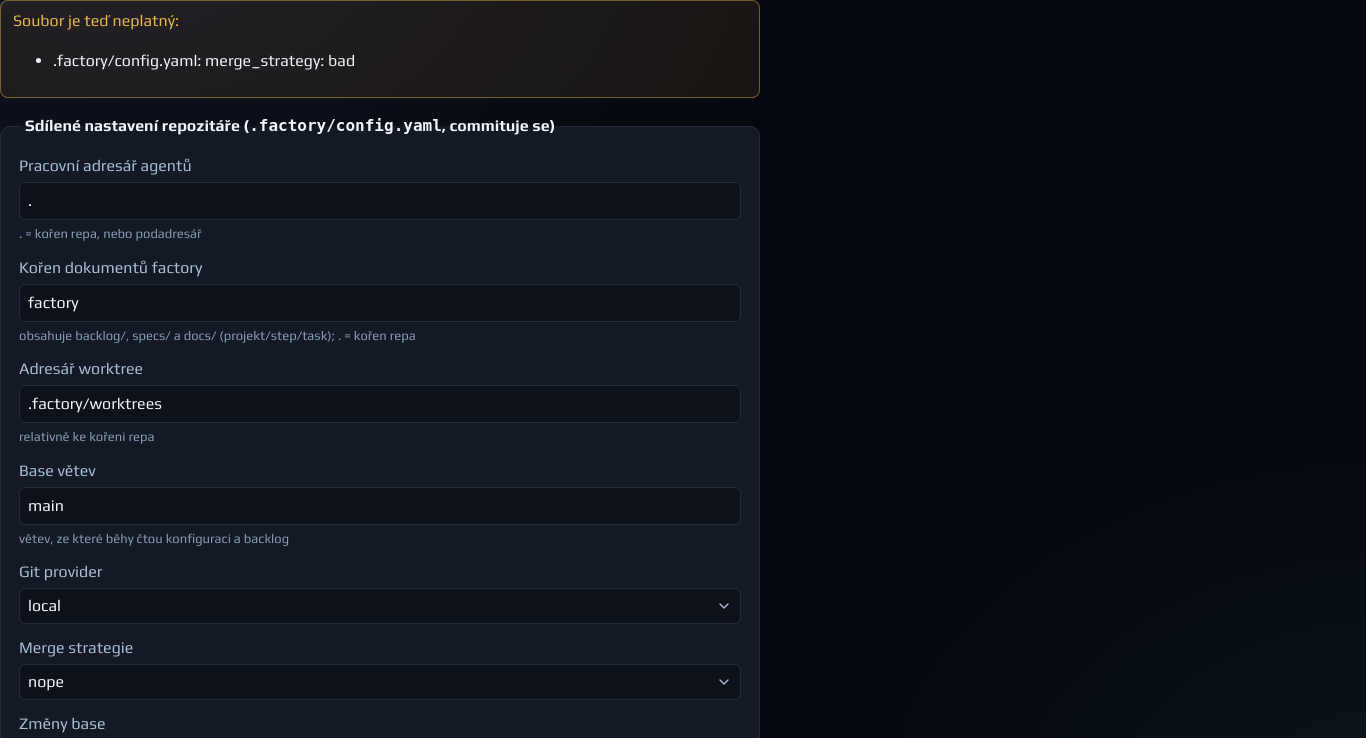
Test: SettingsForm › warns about an invalid file and the azure section
Expected: the element with test id "file-issues" shows "merge_strategy: bad", [53,51,355,70]
Click the dropdown with test id "merge_strategy".
click(46, 682)  # box [19,664,741,700]
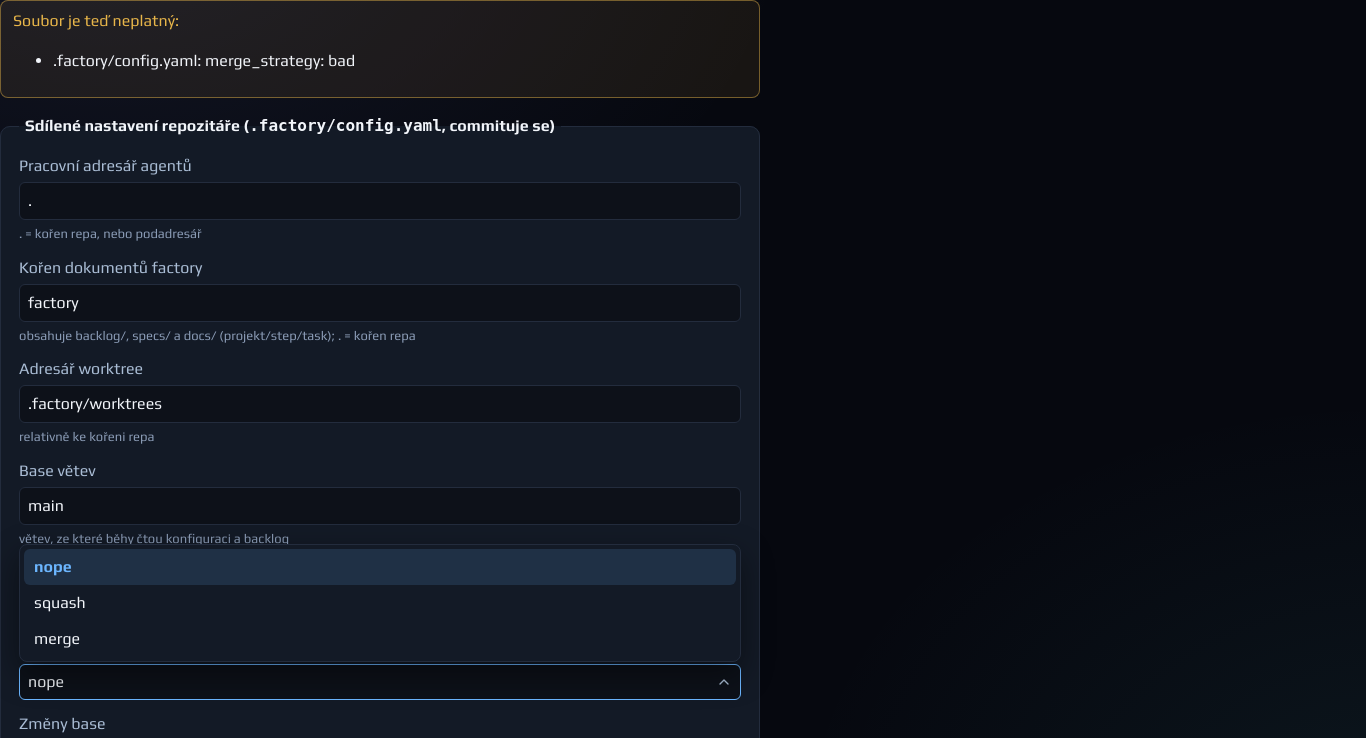
Press Escape in the dropdown with test id "merge_strategy", box [19,664,741,700]
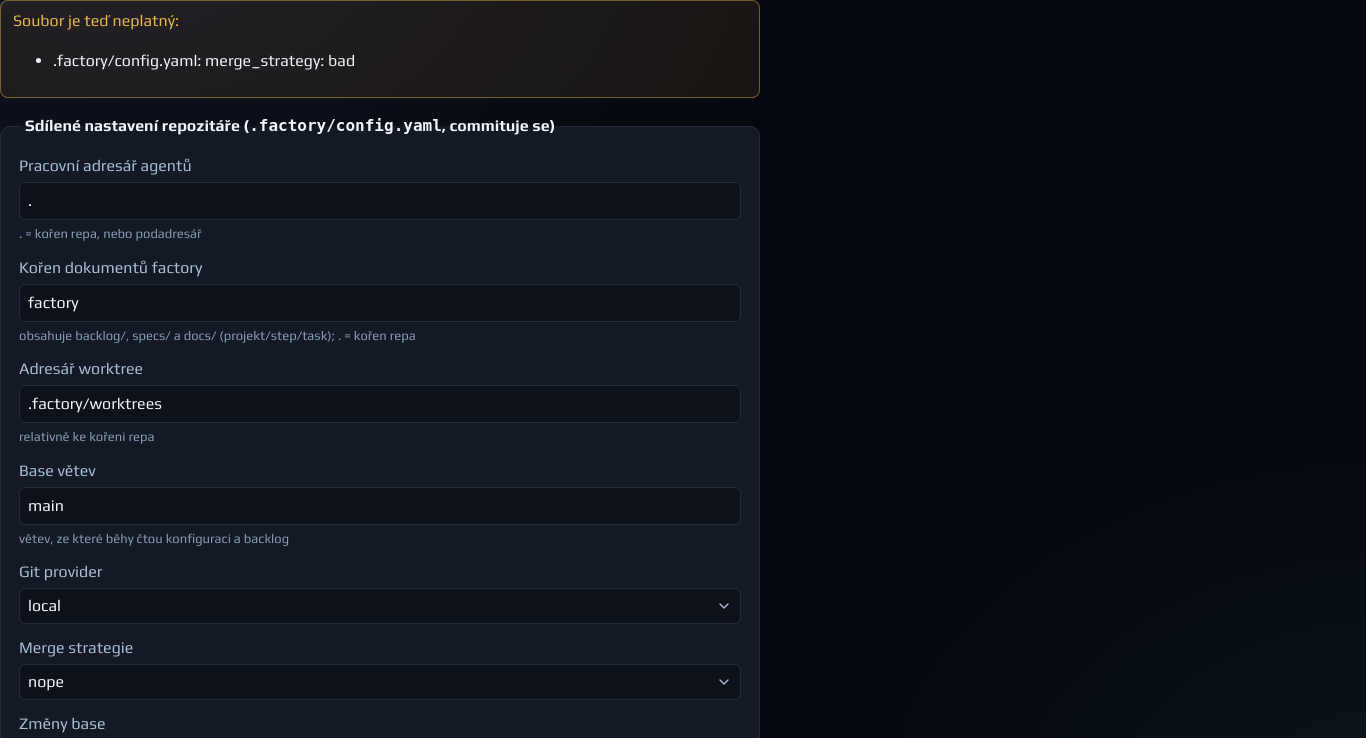
Click the dropdown with test id "git_provider".
click(44, 606)  # box [19,588,741,624]
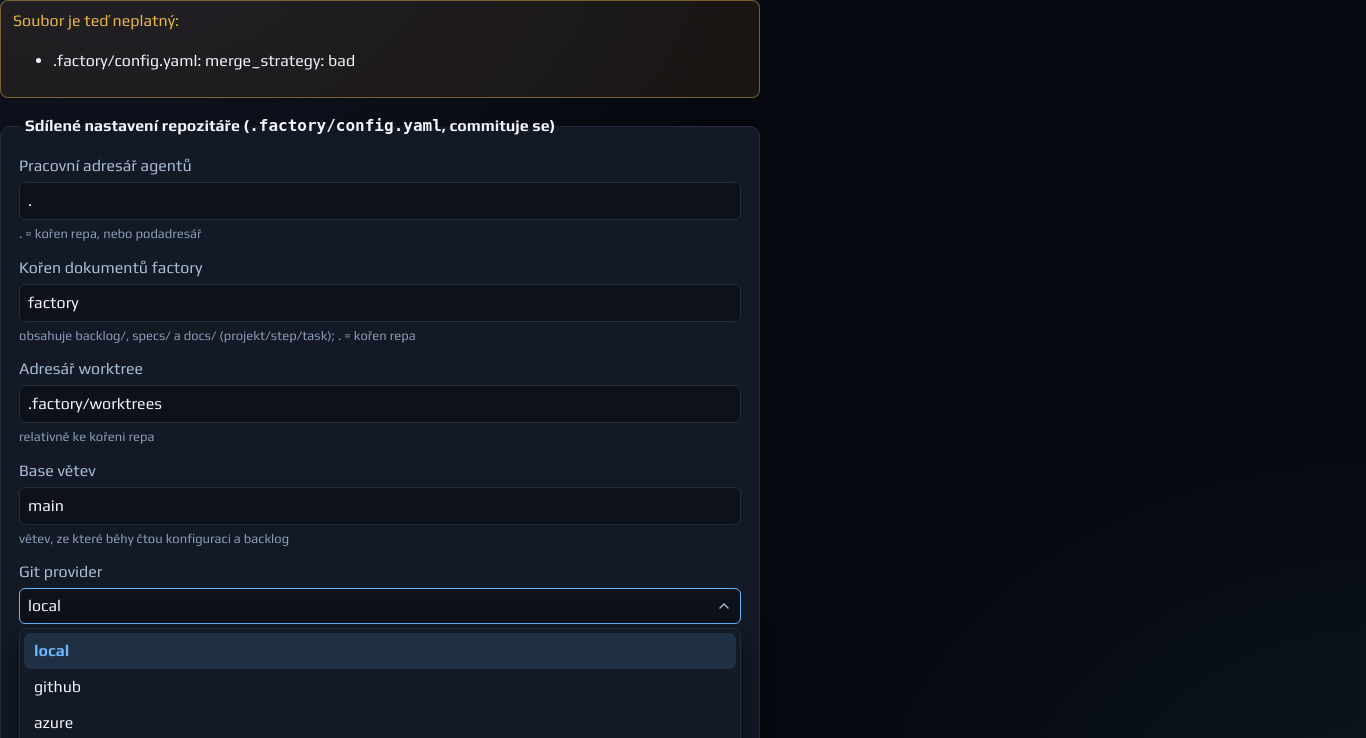
Click the option "azure".
click(54, 722)  # box [34,713,73,732]
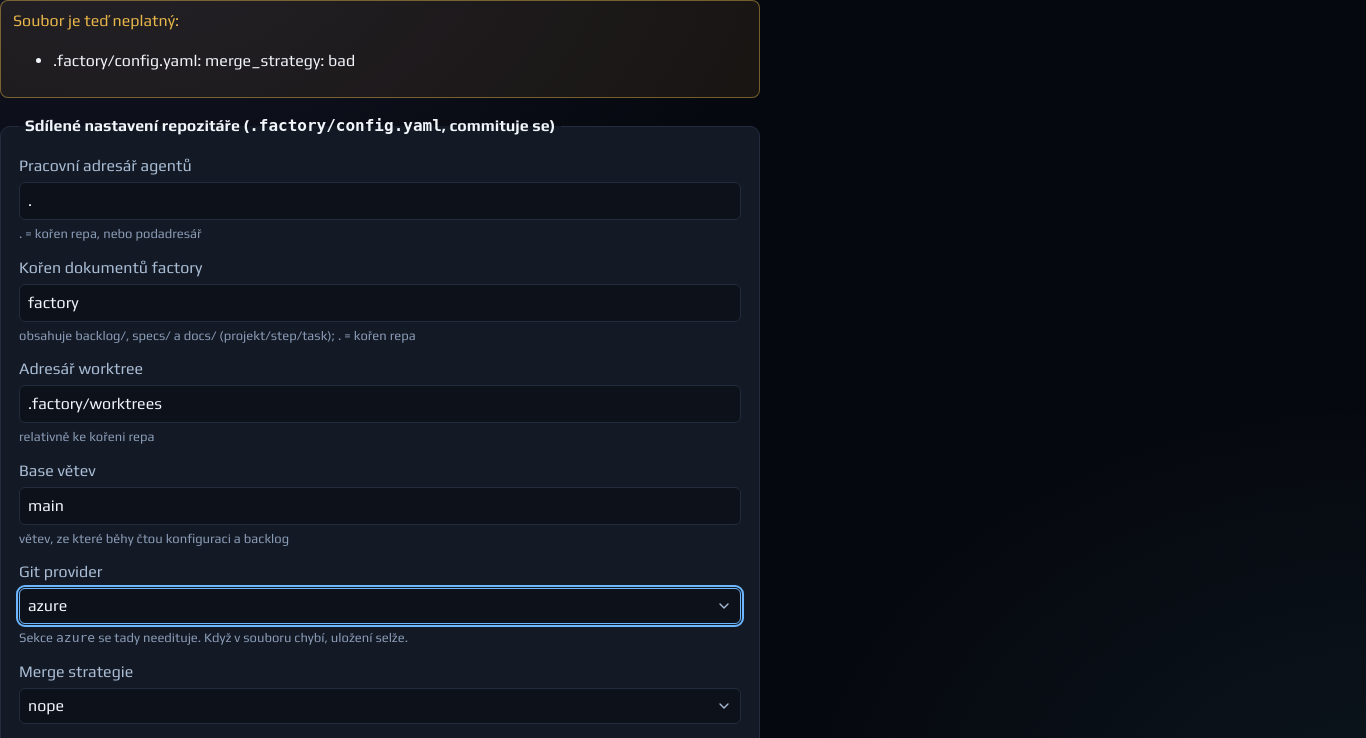
Result: the element with test id "azure-hint" is shown at [19,630,408,645]
